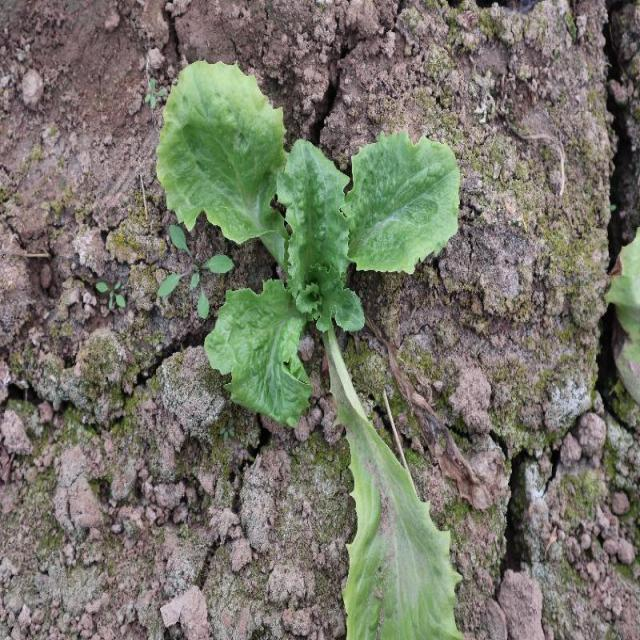crop: (149, 55, 462, 423)
